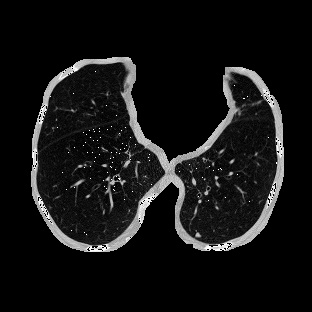PN: (195, 232, 201, 238)
